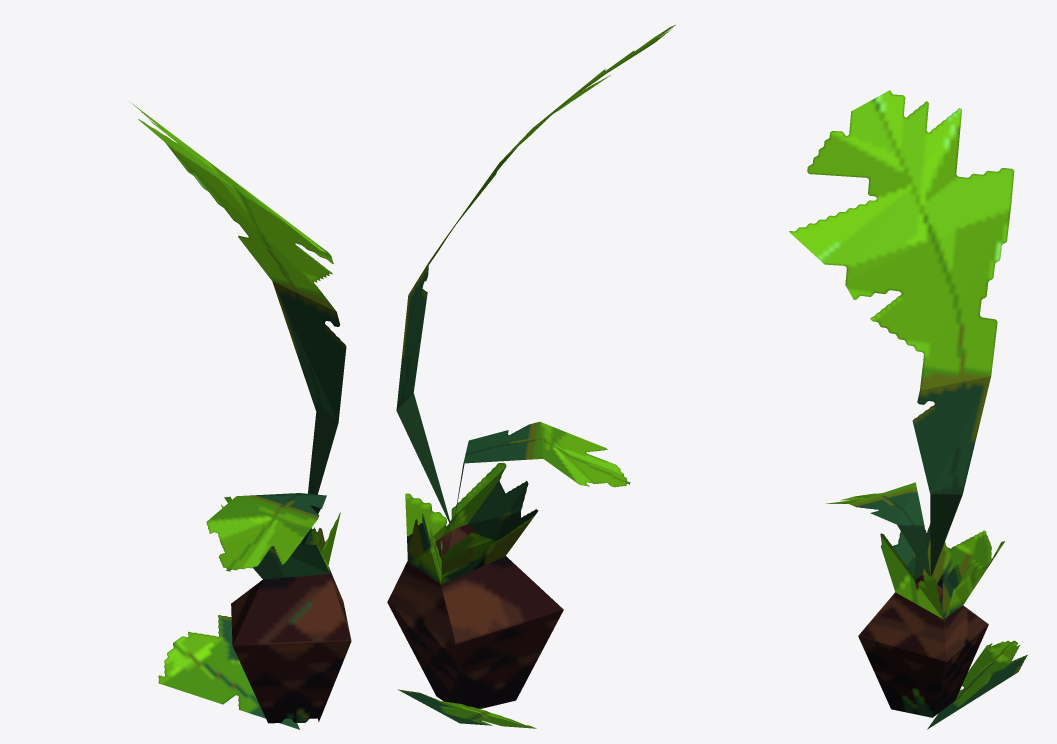
File: palm_fan_2.obj
3 views of the same model, side by side, from view 1: azimuth 30°, elevation 25°; view 2: azimuth 150°, elevation 25°; view 3: azimuth 270°, elevation 25° (orthographic). The views are drawn at different scales.
Parts seen in each view (by area): view 1: palm_fan_2; view 2: palm_fan_2; view 3: palm_fan_2.
Boxes of the visible parts, x1=… form: palm_fan_2: x1=129, y1=101, x2=351, y2=729; palm_fan_2: x1=387, y1=25, x2=675, y2=728; palm_fan_2: x1=789, y1=90, x2=1027, y2=729.
Bounding box in the file's own units: 1.03 × 2.53 × 1.16.
1 material, 1 textured.
